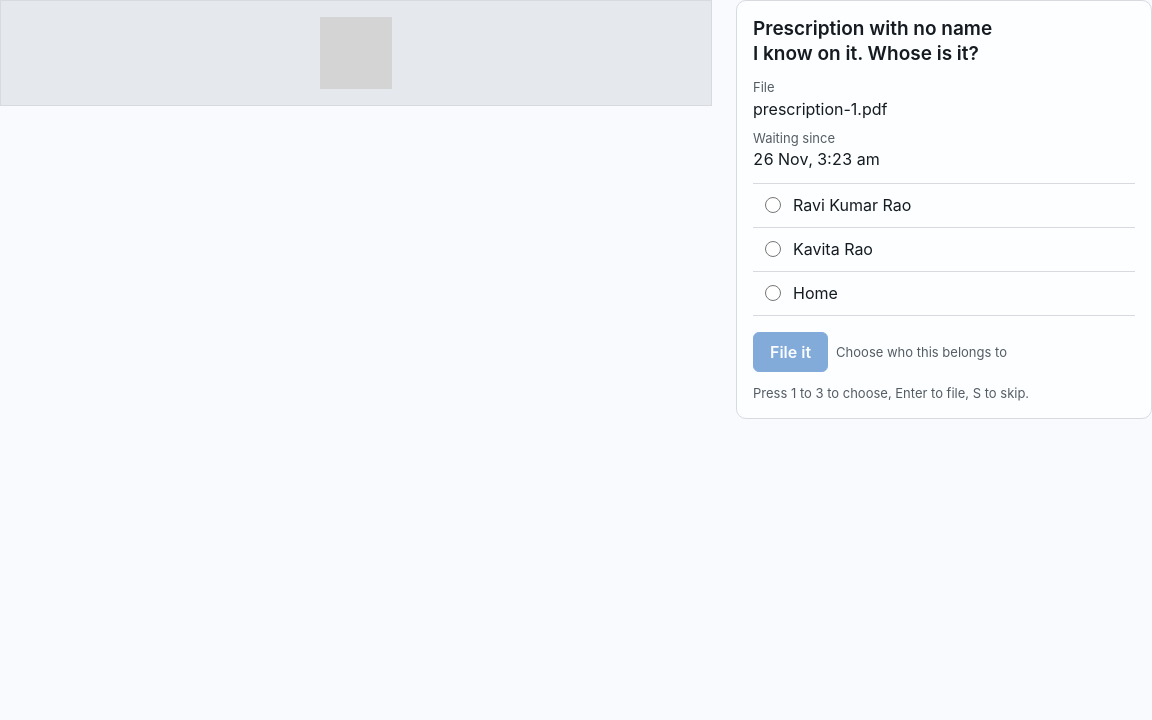
Test: NeedsALook › shows the refusal sentence of the API
Click the radio button labelled "Home".
click(773, 293)  # box [765,285,781,301]
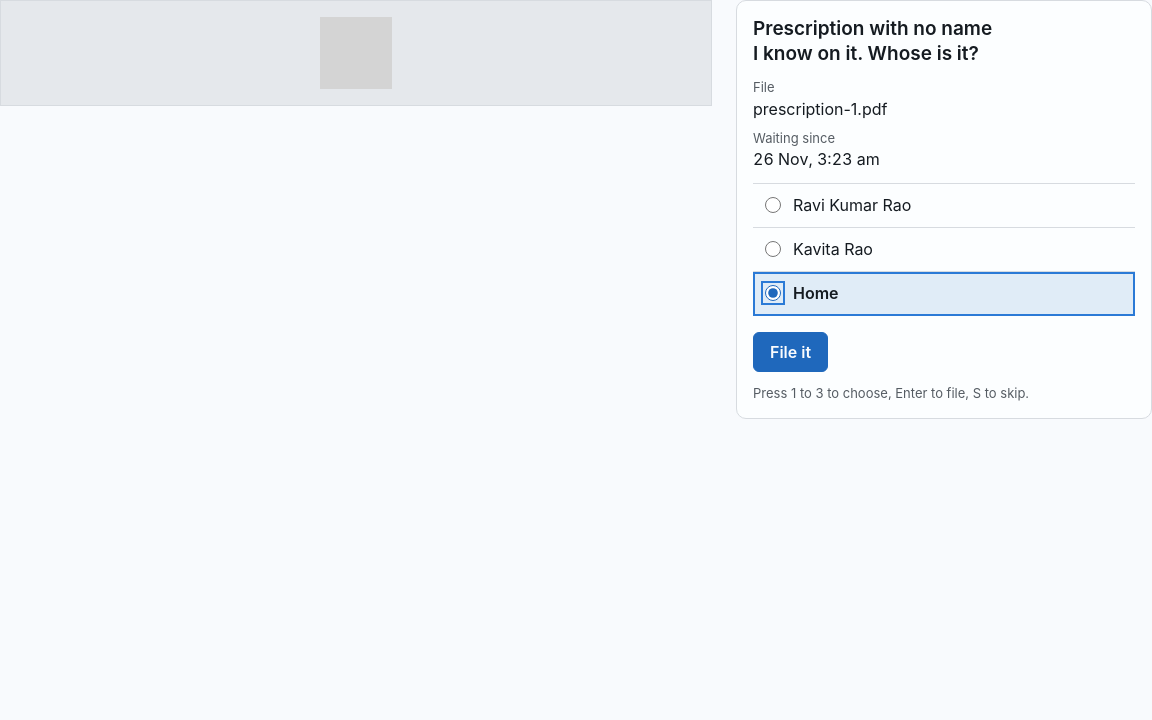
Click the button "File it".
click(791, 352)  # box [753,332,828,372]
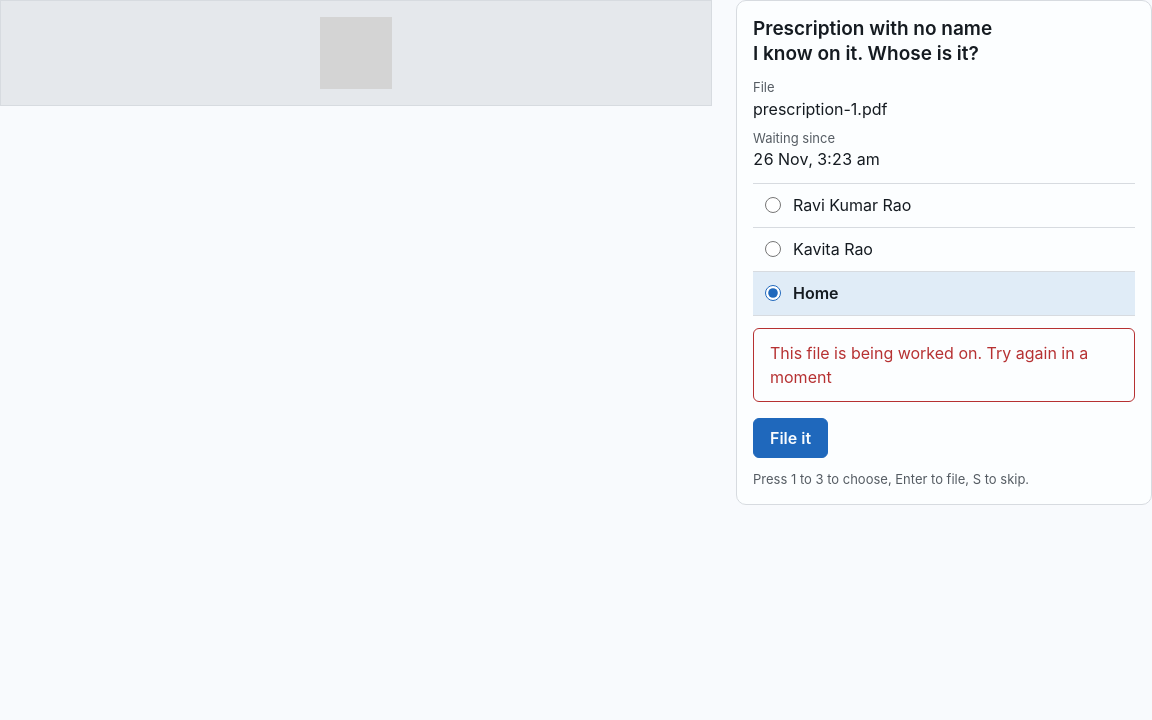
Check: the message shows "being worked on", box [770,343,1088,387]
